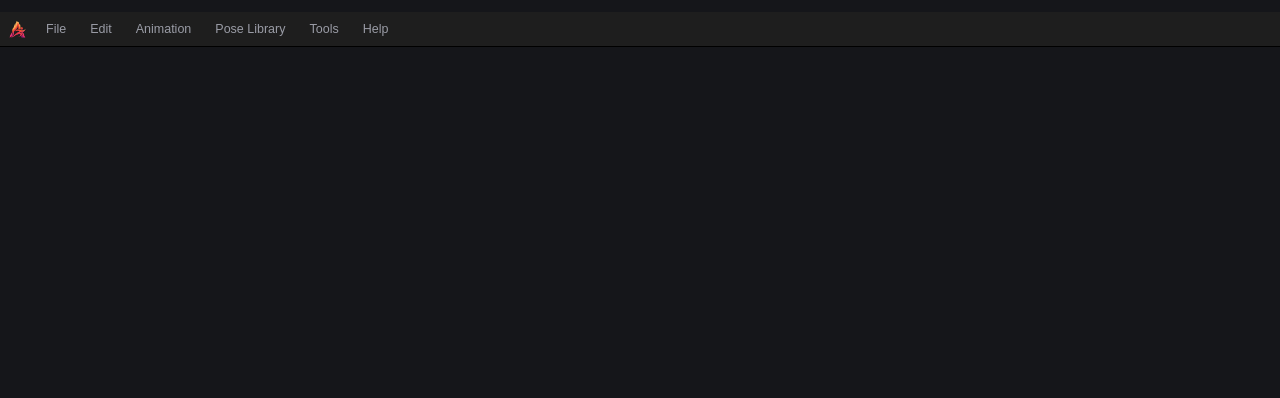
Test: Animation menu › needs a character for clip actions
Click the button "Animation" at [164, 29], box [124,12,203,46]
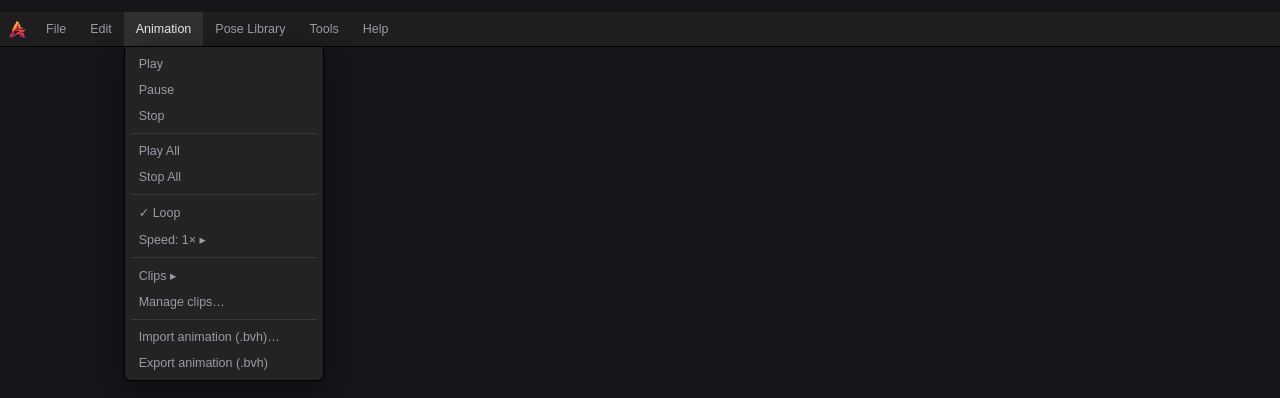
Check: the menu item "Clips ▸" is disabled, box [129,262,319,289]
Check: the menu item "Manage clips…" is disabled, box [129,289,319,315]
